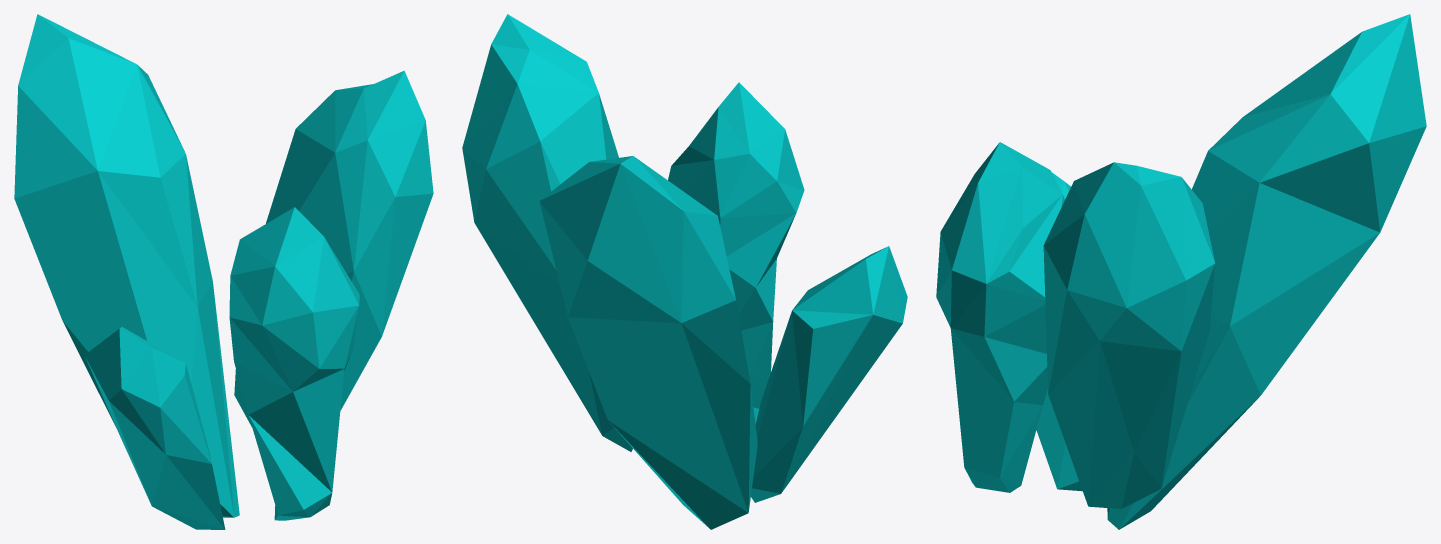
File: Crystal2.fbx
3 renders of one model, left to right at view 1: azimuth 30°, elevation 25°; view 2: azimuth 150°, elevation 25°; view 3: azimuth 270°, elevation 25°, orthographic. The views are drawn at different scales.
Visible parts, largest first — view 1: Cube.055; view 2: Cube.055; view 3: Cube.055.
Part boxes in pixels (bbox=[...]): Cube.055: bbox=[14, 14, 433, 529]; Cube.055: bbox=[462, 14, 907, 529]; Cube.055: bbox=[936, 14, 1426, 529].
Bounding box in the file's own units: 512 × 597 × 554.
